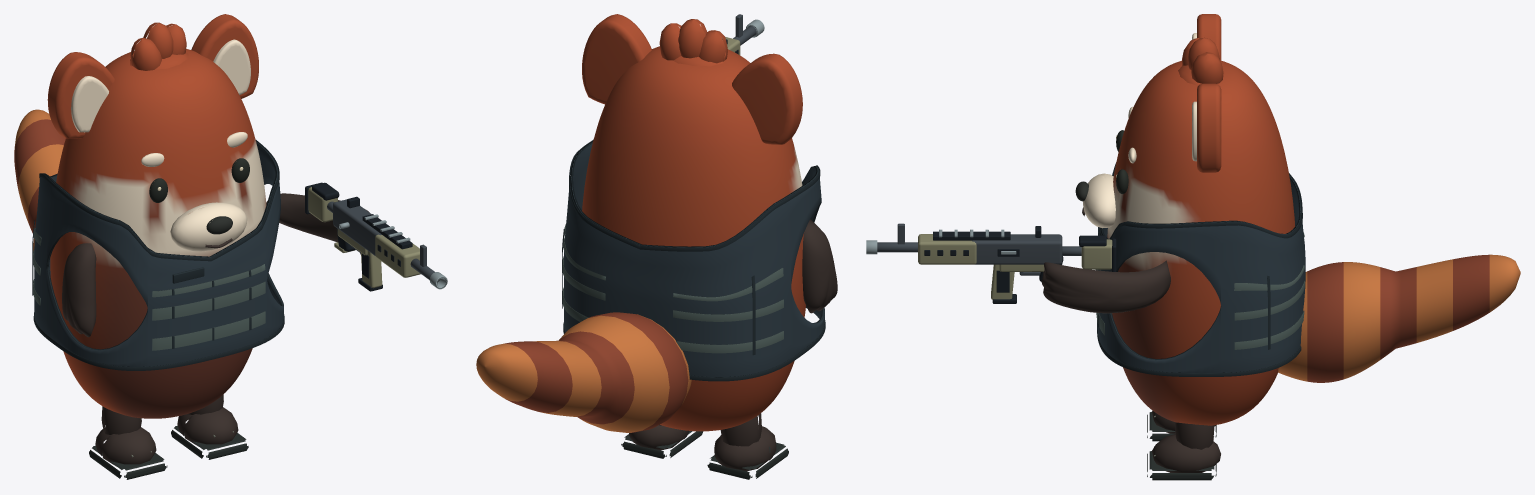
File: fitted-species-redpanda-aim-preview.glb
3 renders of one model, left to right at view 1: azimuth 30°, elevation 25°; view 2: azimuth 150°, elevation 25°; view 3: azimuth 270°, elevation 25°, orthographic. The views are drawn at different scales.
Visible parts, largest first — view 1: redpanda_aim_after_redpanda_torso_mesh, redpanda_aim_after_redpanda_vest_refined_mesh, redpanda_aim_after_redpanda_leftEar_mesh, redpanda_aim_after_redpanda_tail_mesh, redpanda_aim_after_redpanda_leftFoot_mesh, redpanda_aim_after_redpanda_rightEar_mesh, redpanda_aim_after_redpanda_snout_mesh, redpanda_aim_after_redpanda_rightFoot_mesh, redpanda_aim_after_redpanda_leftArm_mesh, redpanda_aim_after_prop_m4_m4 painted furniture, redpanda_aim_after_redpanda_crestShort_mesh, redpanda_aim_after_prop_m4_Cerakote graphite (+3 smaller); view 2: redpanda_aim_after_redpanda_torso_mesh, redpanda_aim_after_redpanda_vest_refined_mesh, redpanda_aim_after_redpanda_tail_mesh, redpanda_aim_after_redpanda_leftEar_mesh, redpanda_aim_after_redpanda_rightEar_mesh, redpanda_aim_after_redpanda_leftFoot_mesh, redpanda_aim_after_redpanda_crestShort_mesh, redpanda_aim_after_redpanda_leftArm_mesh, redpanda_aim_after_redpanda_rightFoot_mesh; view 3: redpanda_aim_after_redpanda_torso_mesh, redpanda_aim_after_redpanda_vest_refined_mesh, redpanda_aim_after_redpanda_tail_mesh, redpanda_aim_after_redpanda_rightArm_mesh, redpanda_aim_after_redpanda_rightFoot_mesh, redpanda_aim_after_prop_m4_Cerakote graphite, redpanda_aim_after_prop_m4_m4 painted furniture, redpanda_aim_after_redpanda_rightEar_mesh, redpanda_aim_after_prop_m4_Recesses and rubber, redpanda_aim_after_redpanda_crestShort_mesh, redpanda_aim_after_redpanda_snout_mesh, redpanda_aim_after_redpanda_leftEar_mesh.
Part boxes in pixels (x1,y1,x2,y2): redpanda_aim_after_redpanda_torso_mesh: (50, 49, 266, 418); redpanda_aim_after_redpanda_vest_refined_mesh: (32, 140, 284, 370); redpanda_aim_after_redpanda_leftEar_mesh: (47, 52, 114, 138); redpanda_aim_after_redpanda_tail_mesh: (14, 109, 65, 250); redpanda_aim_after_redpanda_leftFoot_mesh: (89, 406, 167, 479); redpanda_aim_after_redpanda_rightEar_mesh: (191, 14, 258, 98); redpanda_aim_after_redpanda_snout_mesh: (170, 202, 247, 251); redpanda_aim_after_redpanda_rightFoot_mesh: (171, 394, 248, 459); redpanda_aim_after_redpanda_leftArm_mesh: (62, 243, 96, 337); redpanda_aim_after_prop_m4_m4 painted furniture: (308, 187, 420, 287); redpanda_aim_after_redpanda_crestShort_mesh: (130, 22, 188, 70); redpanda_aim_after_prop_m4_Cerakote graphite: (327, 199, 439, 281); redpanda_aim_after_redpanda_torso_mesh: (582, 46, 805, 431); redpanda_aim_after_redpanda_vest_refined_mesh: (562, 140, 825, 381); redpanda_aim_after_redpanda_tail_mesh: (476, 312, 691, 432); redpanda_aim_after_redpanda_leftEar_mesh: (732, 53, 802, 144); redpanda_aim_after_redpanda_rightEar_mesh: (582, 14, 651, 104); redpanda_aim_after_redpanda_leftFoot_mesh: (707, 413, 788, 479); redpanda_aim_after_redpanda_crestShort_mesh: (659, 19, 727, 66); redpanda_aim_after_redpanda_leftArm_mesh: (802, 219, 837, 313); redpanda_aim_after_redpanda_rightFoot_mesh: (621, 424, 703, 458); redpanda_aim_after_redpanda_torso_mesh: (1107, 60, 1294, 425); redpanda_aim_after_redpanda_vest_refined_mesh: (1096, 162, 1305, 376); redpanda_aim_after_redpanda_tail_mesh: (1278, 254, 1520, 382); redpanda_aim_after_redpanda_rightArm_mesh: (1041, 260, 1170, 313); redpanda_aim_after_redpanda_rightFoot_mesh: (1147, 422, 1220, 480); redpanda_aim_after_prop_m4_Cerakote graphite: (877, 223, 1081, 275); redpanda_aim_after_prop_m4_m4 painted furniture: (918, 234, 1112, 299); redpanda_aim_after_redpanda_rightEar_mesh: (1192, 83, 1221, 172); redpanda_aim_after_prop_m4_Recesses and rubber: (924, 226, 1116, 303); redpanda_aim_after_redpanda_crestShort_mesh: (1178, 37, 1224, 85); redpanda_aim_after_redpanda_snout_mesh: (1075, 173, 1115, 228); redpanda_aim_after_redpanda_leftEar_mesh: (1192, 14, 1221, 60).
Bounding box in the file's own units: 1.26 × 1.98 × 2.83.
